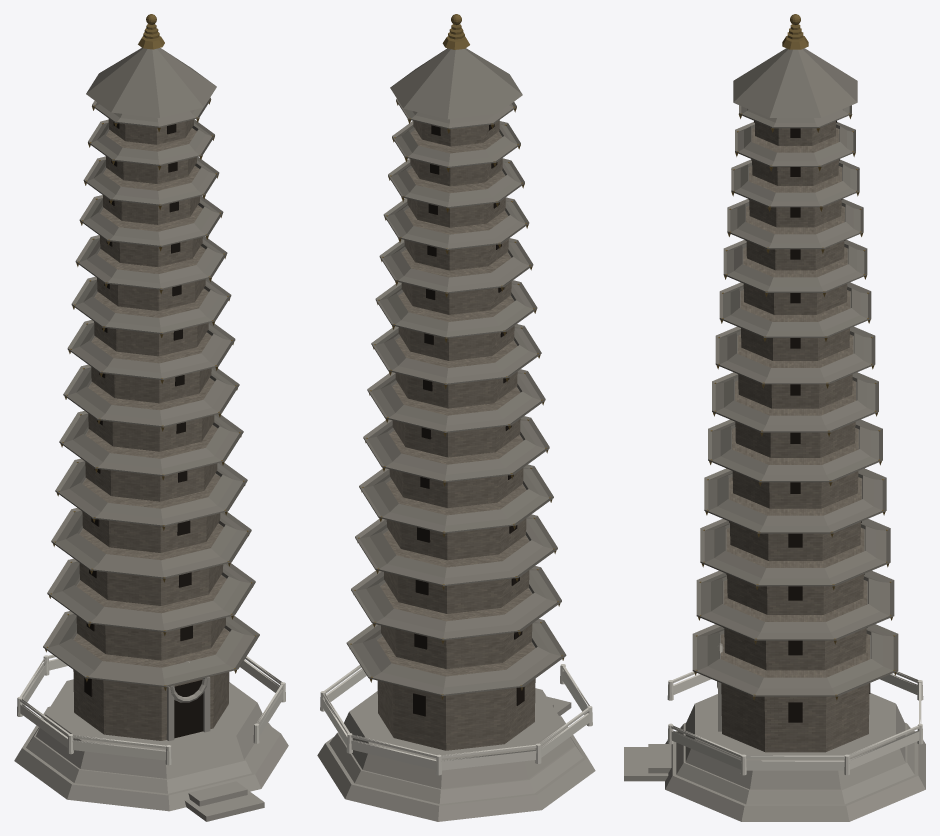
The model's file is boya_pagoda.glb.
3 renders of one model, left to right at view 1: azimuth 30°, elevation 25°; view 2: azimuth 150°, elevation 25°; view 3: azimuth 270°, elevation 25°, orthographic.
Parts seen in each view (by area): view 1: BoyaEaves, BoyaBody, BoyaBase, BoyaRail, BoyaOpen, BoyaBronze; view 2: BoyaEaves, BoyaBody, BoyaBase, BoyaRail, BoyaOpen, BoyaBronze; view 3: BoyaEaves, BoyaBody, BoyaBase, BoyaRail, BoyaOpen, BoyaBronze.
Part boxes in pixels (x1=…): BoyaEaves: x1=43, y1=48, x2=259, y2=687; BoyaBody: x1=73, y1=118, x2=229, y2=740; BoyaBase: x1=14, y1=661, x2=288, y2=821; BoyaRail: x1=17, y1=654, x2=285, y2=765; BoyaOpen: x1=84, y1=122, x2=203, y2=738; BoyaBronze: x1=45, y1=14, x2=256, y2=690; BoyaEaves: x1=346, y1=48, x2=566, y2=696; BoyaBody: x1=377, y1=120, x2=535, y2=750; BoyaBase: x1=317, y1=688, x2=595, y2=821; BoyaRail: x1=320, y1=664, x2=592, y2=775; BoyaOpen: x1=413, y1=124, x2=524, y2=716; BoyaBronze: x1=350, y1=14, x2=563, y2=699; BoyaEaves: x1=692, y1=48, x2=898, y2=696; BoyaBody: x1=721, y1=121, x2=869, y2=752; BoyaBase: x1=624, y1=643, x2=925, y2=821; BoyaRail: x1=667, y1=671, x2=923, y2=775; BoyaOpen: x1=723, y1=121, x2=870, y2=722; BoyaBronze: x1=694, y1=14, x2=896, y2=700.
Size of the model in its own units: 12.93 by 41.18 by 14.97.
6 materials, 1 textured.
